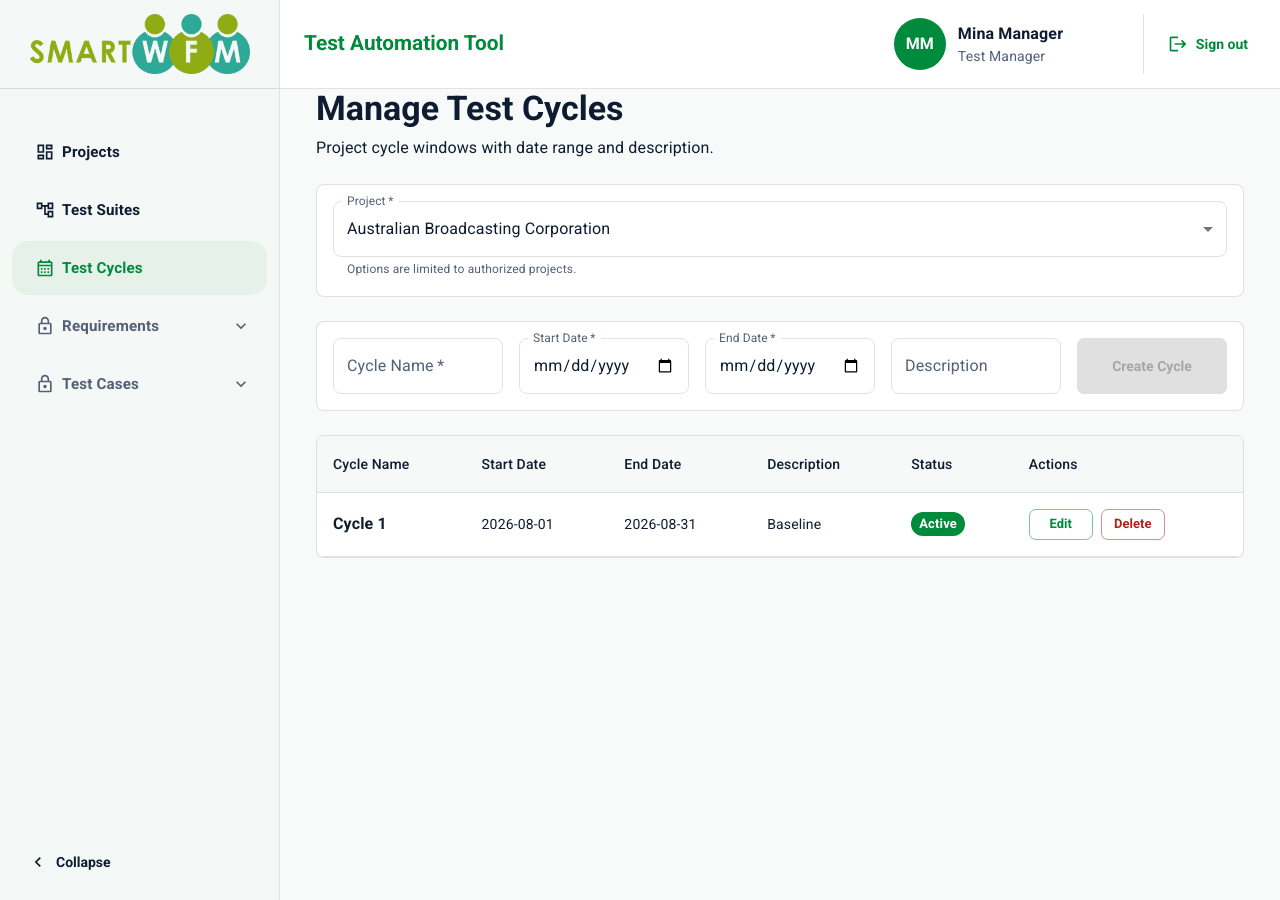
Test: App shell › renders UI-05 cycles and creates a valid project cycle for a Test Manager
Expected: the heading "Manage Test Cycles" is shown, left=316, top=88, right=624, bottom=128
Expected: the text "Cycle 1" is shown, left=333, top=514, right=387, bottom=533
Type "Cycle 2" into the field labelled "Cycle Name *" at x=418, y=366, box left=333, top=338, right=503, bottom=394
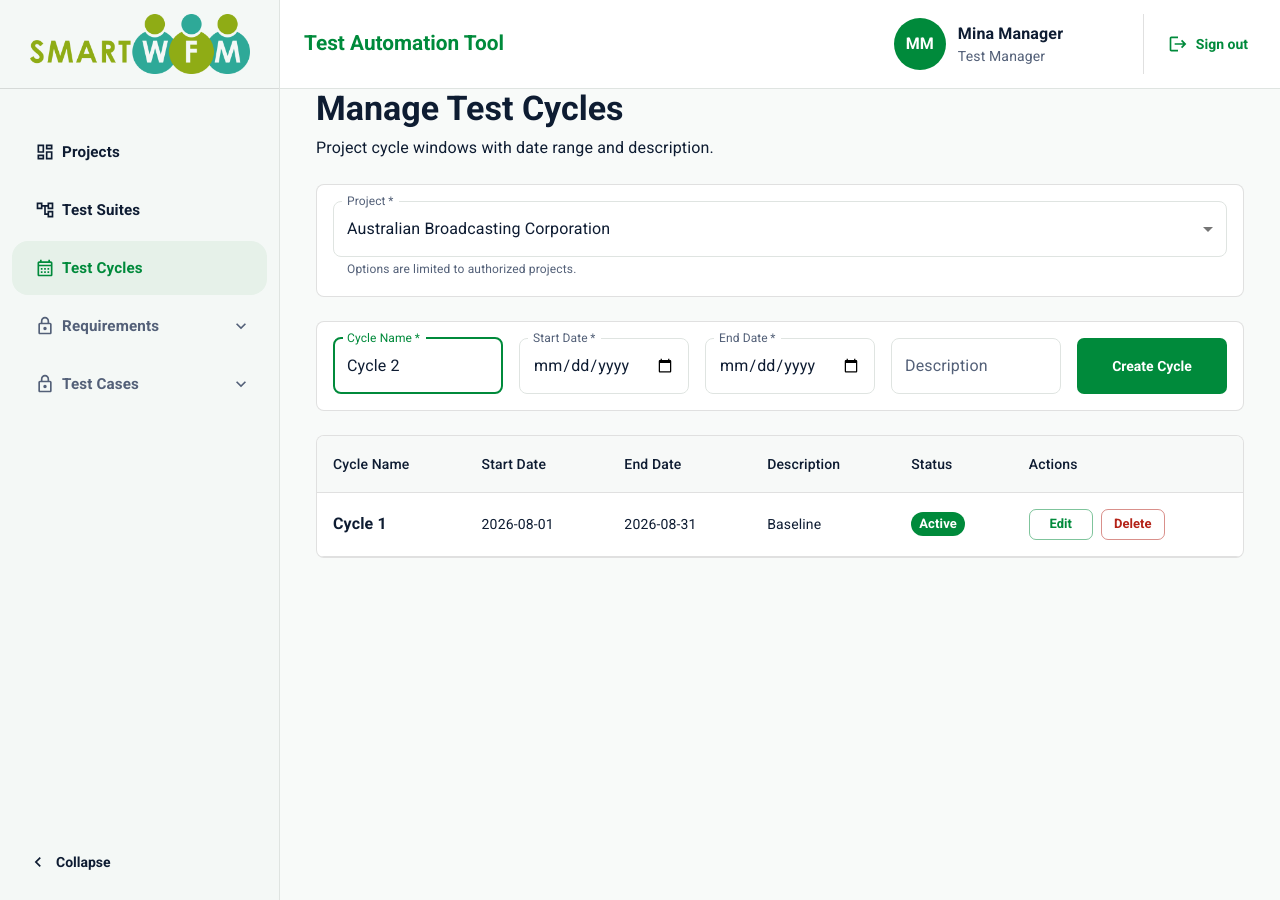
Type "2026-09-01" into the date field labelled "Start Date *" at x=604, y=366, box left=519, top=338, right=689, bottom=394
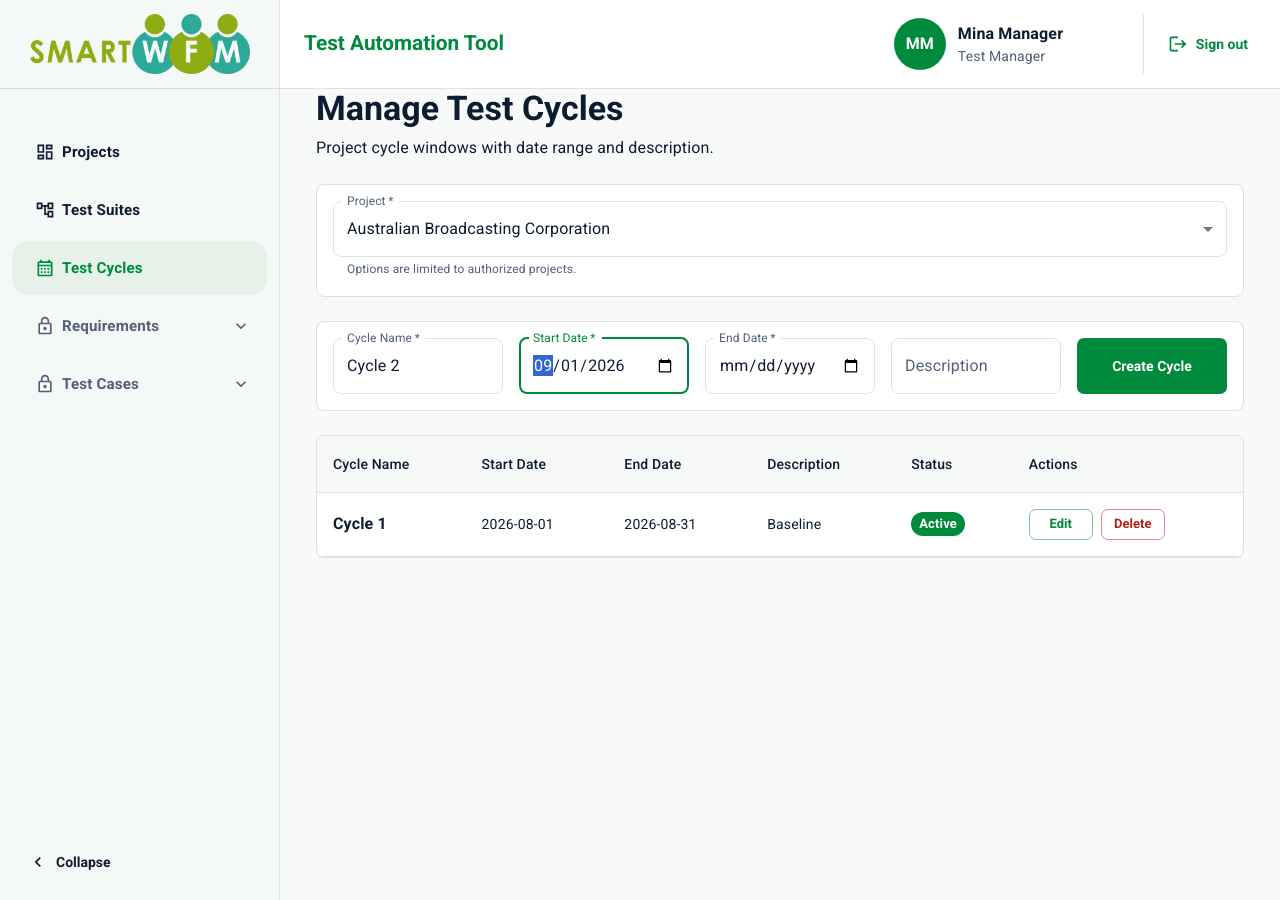
Type "2026-09-30" into the date field labelled "End Date *" at x=790, y=366, box left=705, top=338, right=875, bottom=394
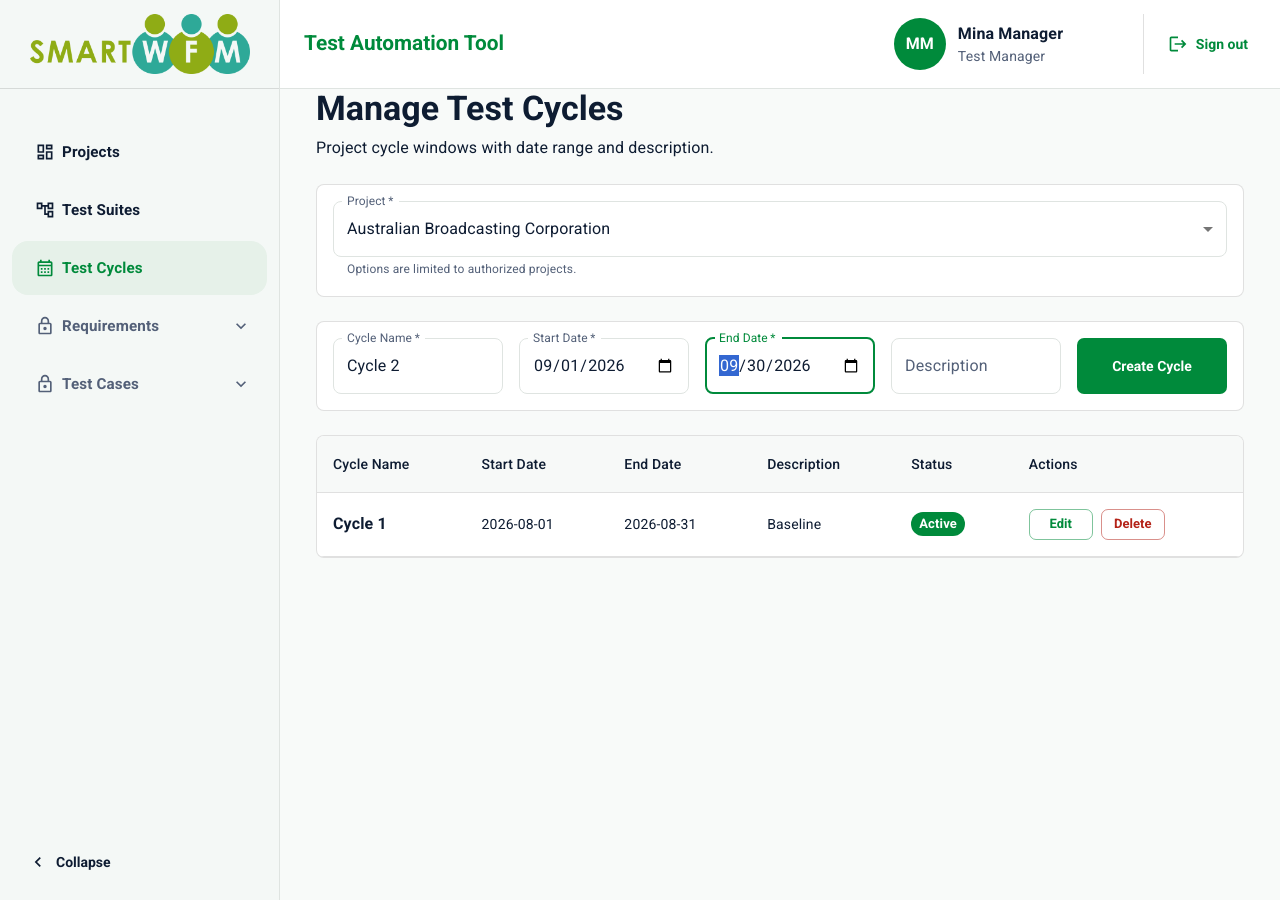
Type "Regression" into the field labelled "Description" at x=976, y=366, box left=891, top=338, right=1061, bottom=394
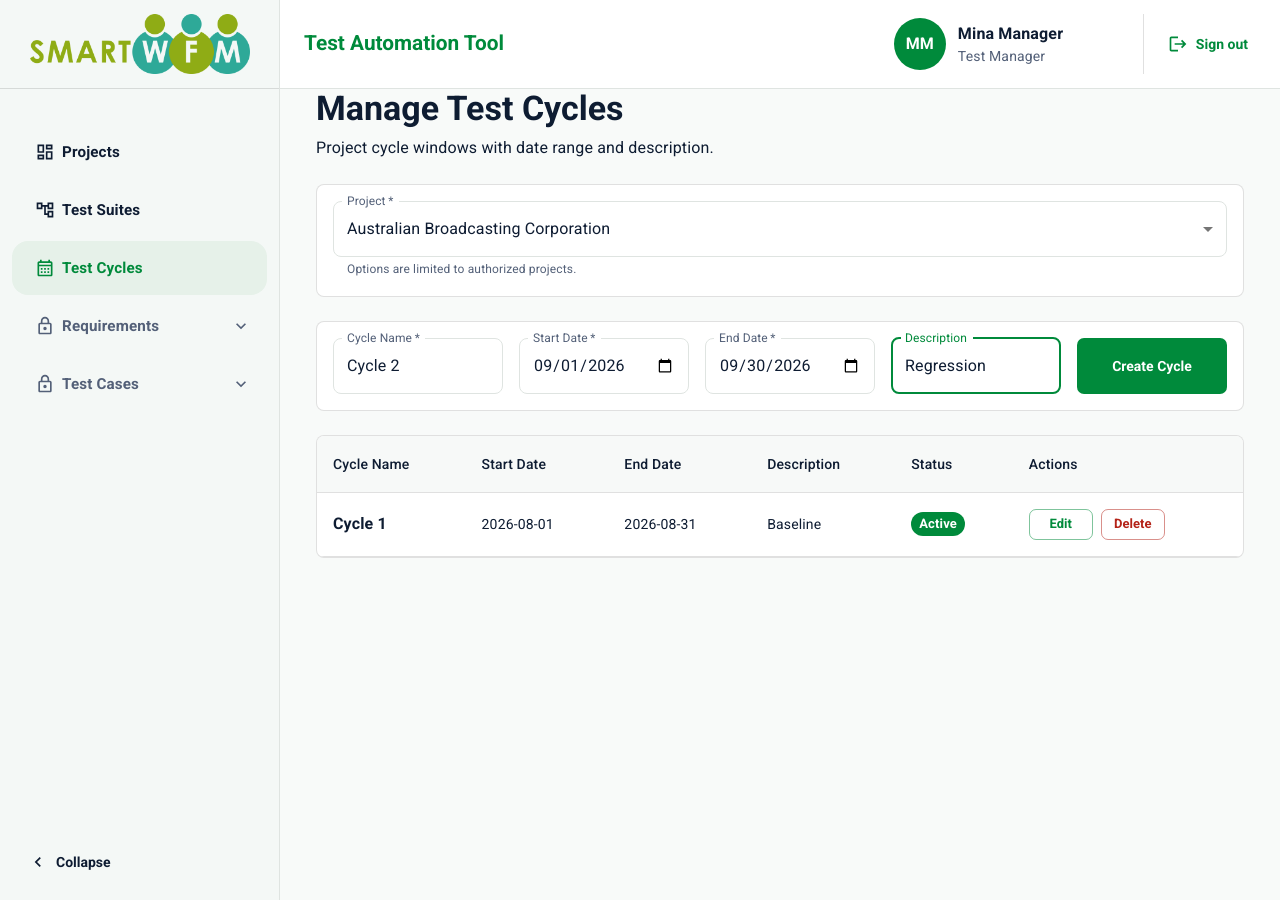
Click the button "Create Cycle" at x=1152, y=366, box left=1077, top=338, right=1227, bottom=394
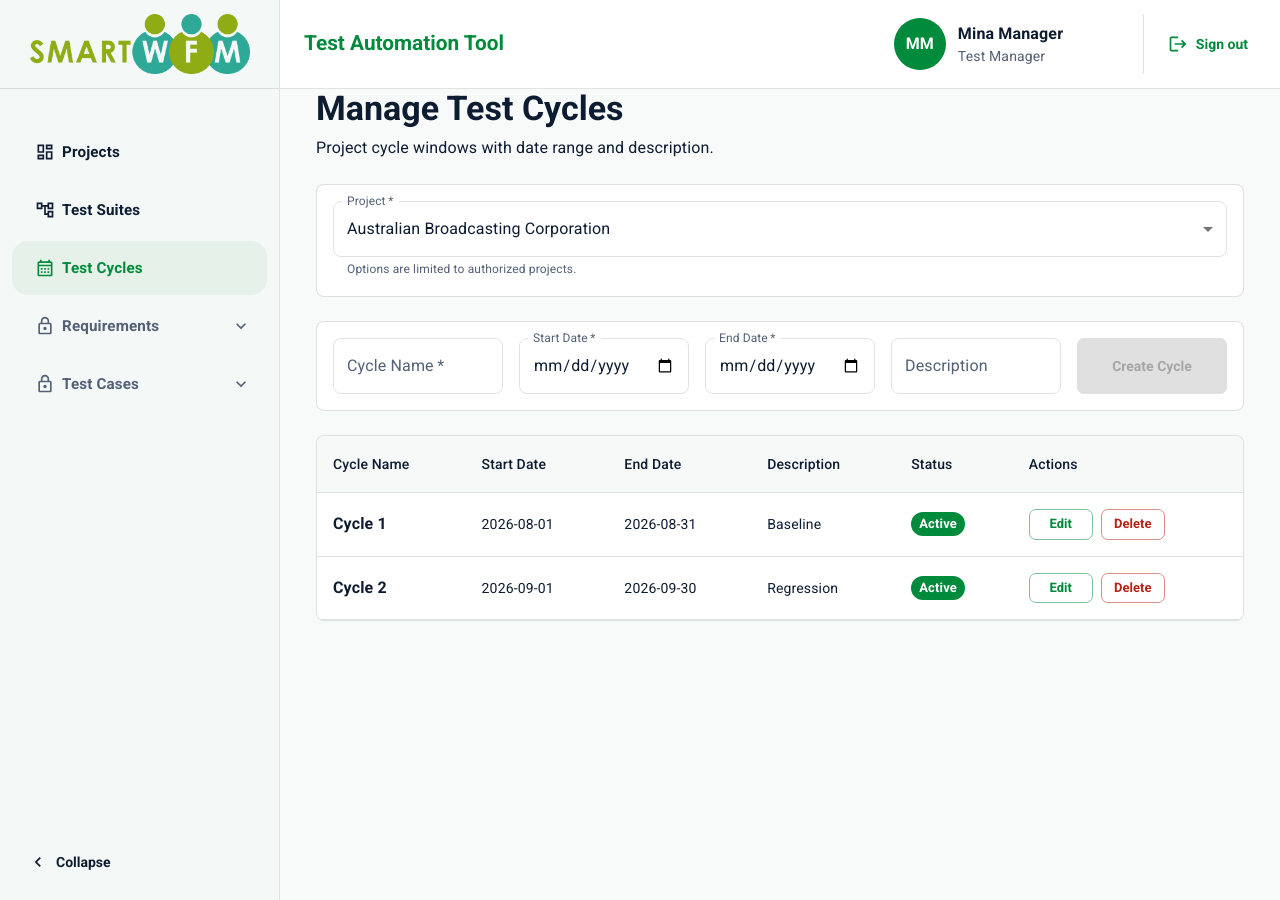
Expected: the text "Cycle 2" is shown, left=333, top=578, right=387, bottom=597
